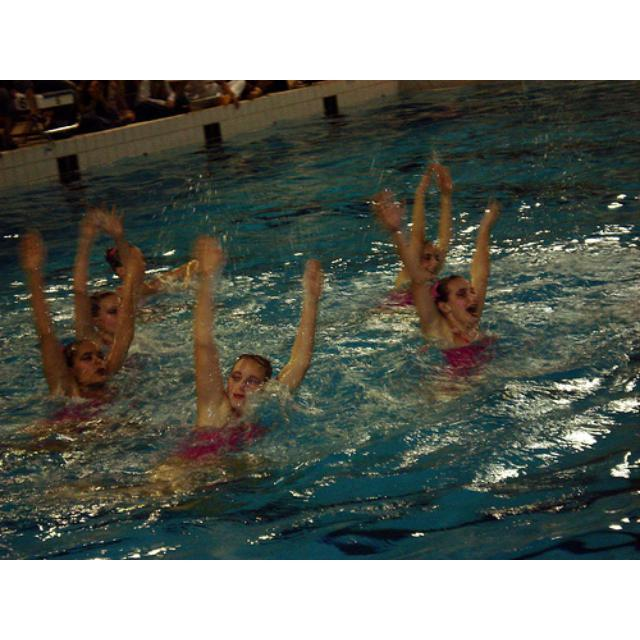human: (181, 236, 334, 442), (393, 196, 512, 385), (36, 231, 151, 405), (383, 169, 461, 293), (75, 211, 136, 341), (112, 227, 170, 301)
